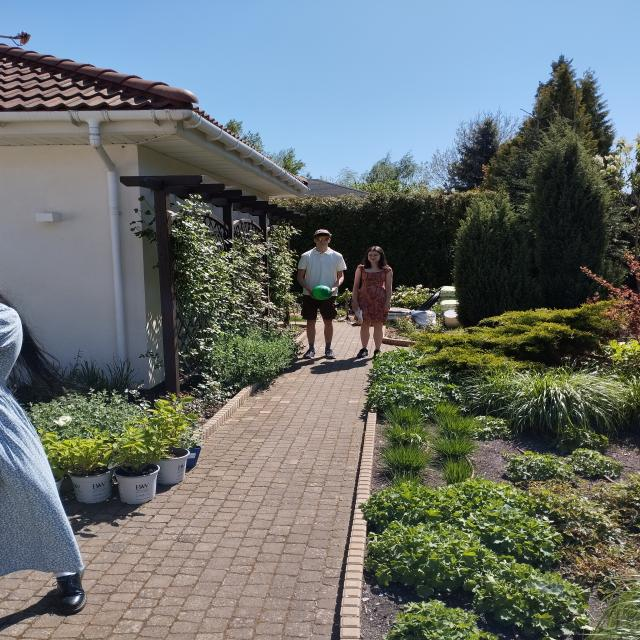zielona: (313, 285, 332, 300)
